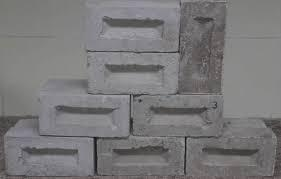brick: (84, 2, 179, 52), (179, 0, 228, 96), (38, 94, 130, 137), (132, 94, 223, 137), (186, 135, 276, 178), (96, 137, 185, 178), (4, 136, 95, 176), (88, 55, 177, 94)
